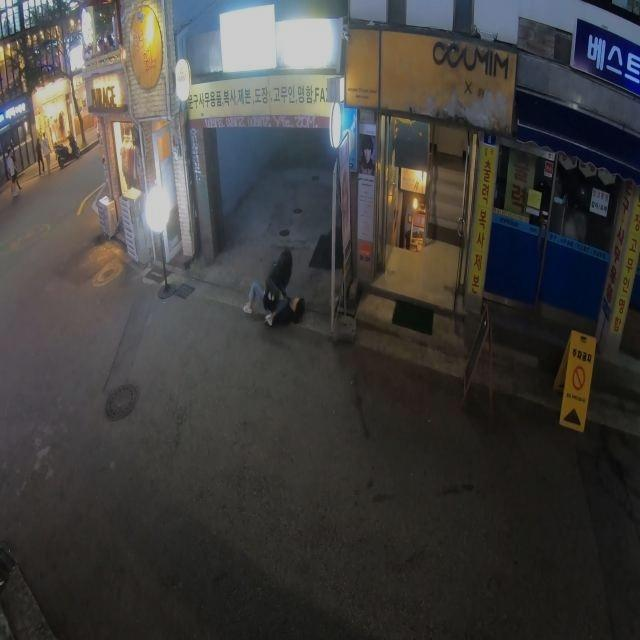fight: (240, 245, 309, 329)
